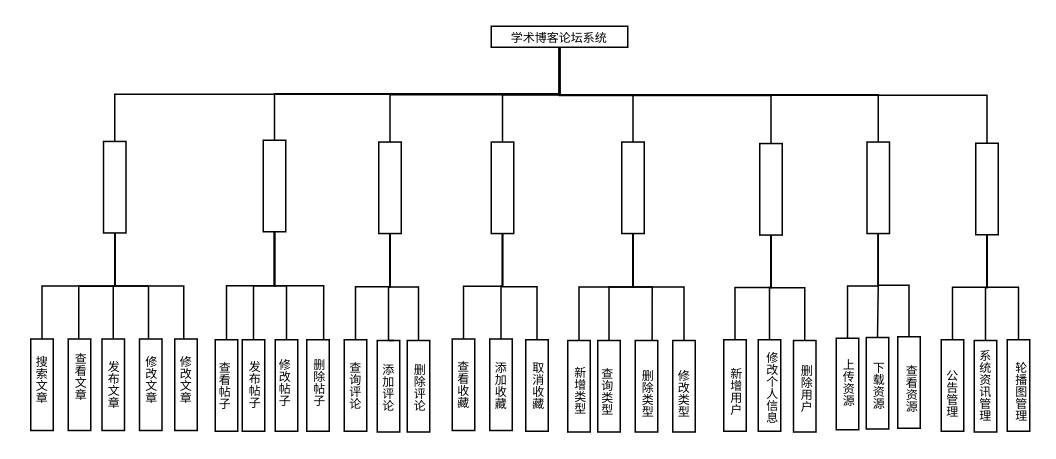
The diagram is 1056 pixels wide and 459 high, and some of its shapes have lost their labels. Here are the shapes that lost their labels. From the top down, the box of each, then its label:
(102, 140, 126, 233): 博客文章管理
(262, 139, 286, 232): 帖子管理
(377, 141, 401, 234): 评论管理
(490, 141, 514, 234): 收藏管理
(620, 141, 644, 234): 博客类型管理
(758, 142, 782, 235): 用户管理
(866, 141, 890, 234): 资源管理
(974, 142, 998, 235): 系统管理
